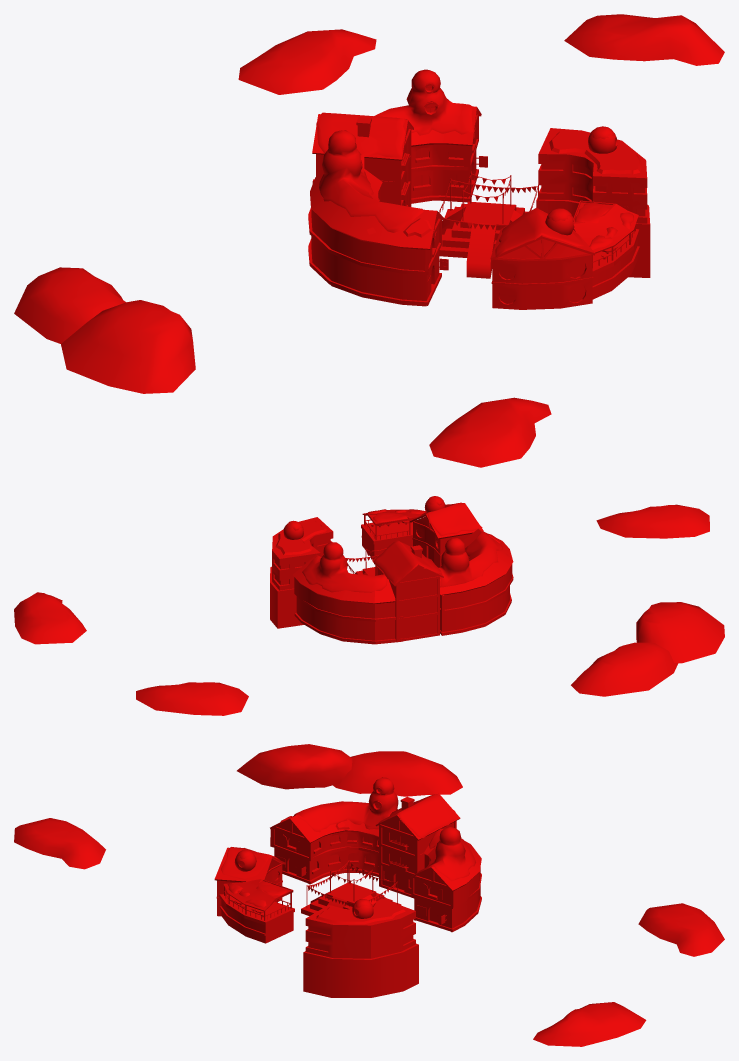
The model's file is Neighborhood_NothingHappeningHereSquare_02.glb.
3 renders of one model, top to bottom at view 1: azimuth 30°, elevation 25°; view 2: azimuth 150°, elevation 25°; view 3: azimuth 270°, elevation 25°, orthographic. The views are drawn at different scales.
Parts seen in each view (by area): view 1: Building_Lounge, Building_Hotel2, SnowPatch3, Building_House_2IglooStack2, Building_ModernHotel, SnowPatch6, SnowPatch5, SnowPatch2, SnowPatch4, Building_Hotel1, Building_Stairs, Building_House_2IglooStack3 (+2 smaller); view 2: Building_Lounge, Building_Hotel1, Building_Hotel2, SnowPatch3, SnowPatch4, Building_House_2IglooStack2, SnowPatch5, SnowPatch2, Building_ModernHotel, SnowPatch6, Building_House_2IglooStack3, polySurface158 (+1 smaller); view 3: Building_ModernHotel, Building_Lounge, Building_Hotel2, Building_House_2IglooStack2, SnowPatch4, SnowPatch3, Building_Hotel1, SnowPatch6, SnowPatch2, SnowPatch5, Building_House_2IglooStack3, Building_Stairs (+2 smaller).
Boxes of the visible parts, bbox=[...] form: Building_Lounge: bbox=[312, 114, 639, 309]; Building_Hotel2: bbox=[308, 169, 448, 306]; SnowPatch3: bbox=[61, 300, 195, 393]; Building_House_2IglooStack2: bbox=[316, 112, 434, 237]; Building_ModernHotel: bbox=[536, 128, 650, 277]; SnowPatch6: bbox=[564, 14, 724, 65]; SnowPatch5: bbox=[238, 29, 376, 94]; SnowPatch2: bbox=[429, 397, 551, 467]; SnowPatch4: bbox=[14, 267, 125, 343]; Building_Hotel1: bbox=[411, 106, 487, 203]; Building_Stairs: bbox=[439, 201, 527, 278]; Building_House_2IglooStack3: bbox=[374, 69, 472, 135]; Building_Lounge: bbox=[361, 503, 483, 642]; Building_Hotel1: bbox=[293, 554, 403, 644]; Building_Hotel2: bbox=[440, 528, 513, 635]; SnowPatch3: bbox=[636, 602, 724, 663]; SnowPatch4: bbox=[571, 642, 678, 696]; Building_House_2IglooStack2: bbox=[374, 532, 509, 587]; SnowPatch5: bbox=[136, 682, 248, 715]; SnowPatch2: bbox=[596, 504, 709, 538]; Building_ModernHotel: bbox=[270, 517, 333, 628]; SnowPatch6: bbox=[14, 592, 86, 644]; Building_House_2IglooStack3: bbox=[302, 542, 387, 592]; polySurface158: bbox=[367, 502, 482, 536]; Building_ModernHotel: bbox=[303, 898, 418, 997]; Building_Lounge: bbox=[214, 793, 460, 943]; Building_Hotel2: bbox=[270, 815, 378, 884]; Building_House_2IglooStack2: bbox=[280, 777, 458, 838]; SnowPatch4: bbox=[333, 751, 462, 796]; SnowPatch3: bbox=[237, 744, 352, 789]; Building_Hotel1: bbox=[410, 840, 481, 932]; SnowPatch6: bbox=[533, 1002, 646, 1046]; SnowPatch2: bbox=[14, 818, 105, 869]; SnowPatch5: bbox=[638, 903, 724, 956]; Building_House_2IglooStack3: bbox=[418, 827, 475, 881]; Building_Stairs: bbox=[301, 882, 401, 915].
Bounding box in the file's own units: 60.34 × 11.78 × 61.72.
